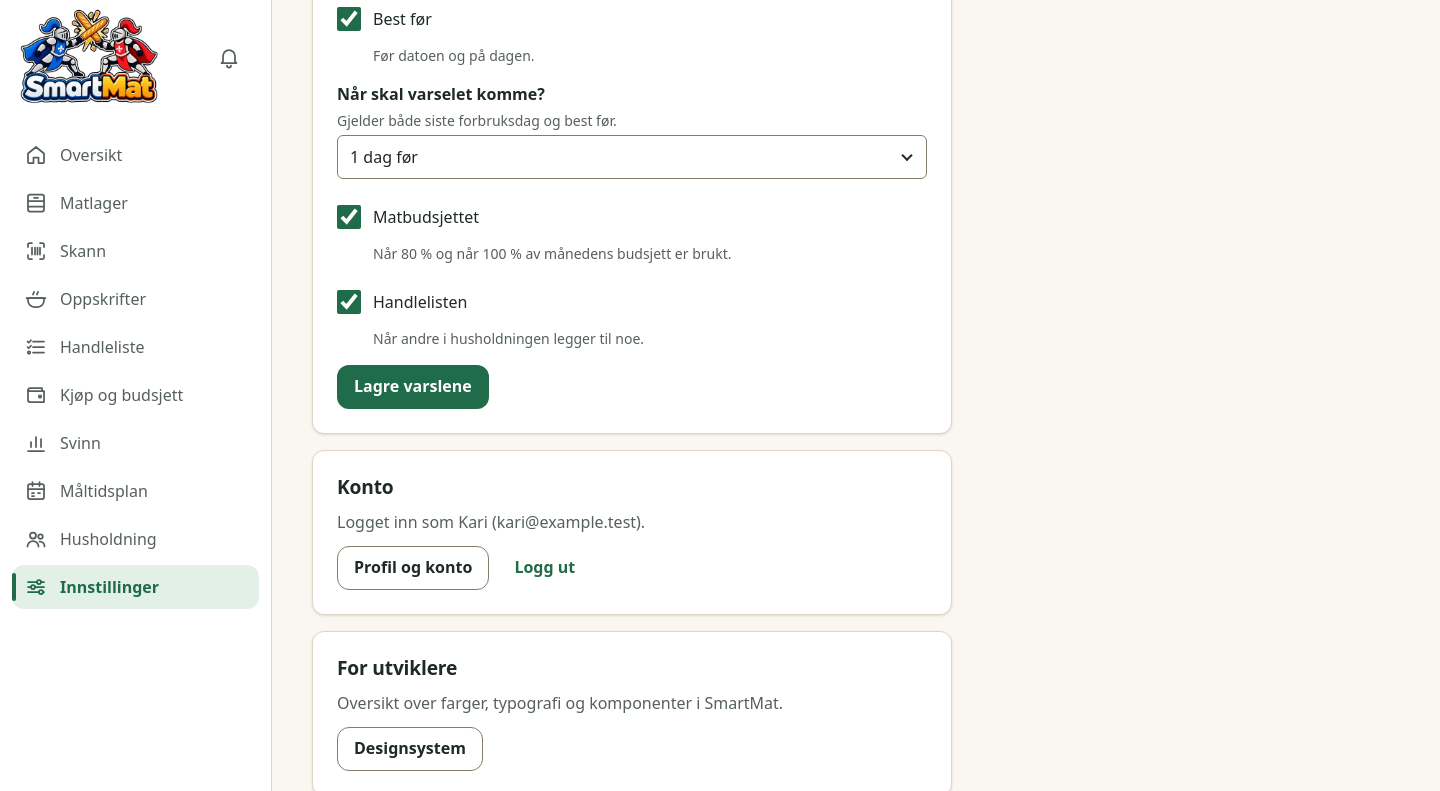
FR-NOTIF-005 notification settings › shows a server refusal as a message
The image size is (1440, 791).
(page scrolled)
Click the button "Lagre varslene" at (413, 387), box [337,365,489,409]
(page scrolled)
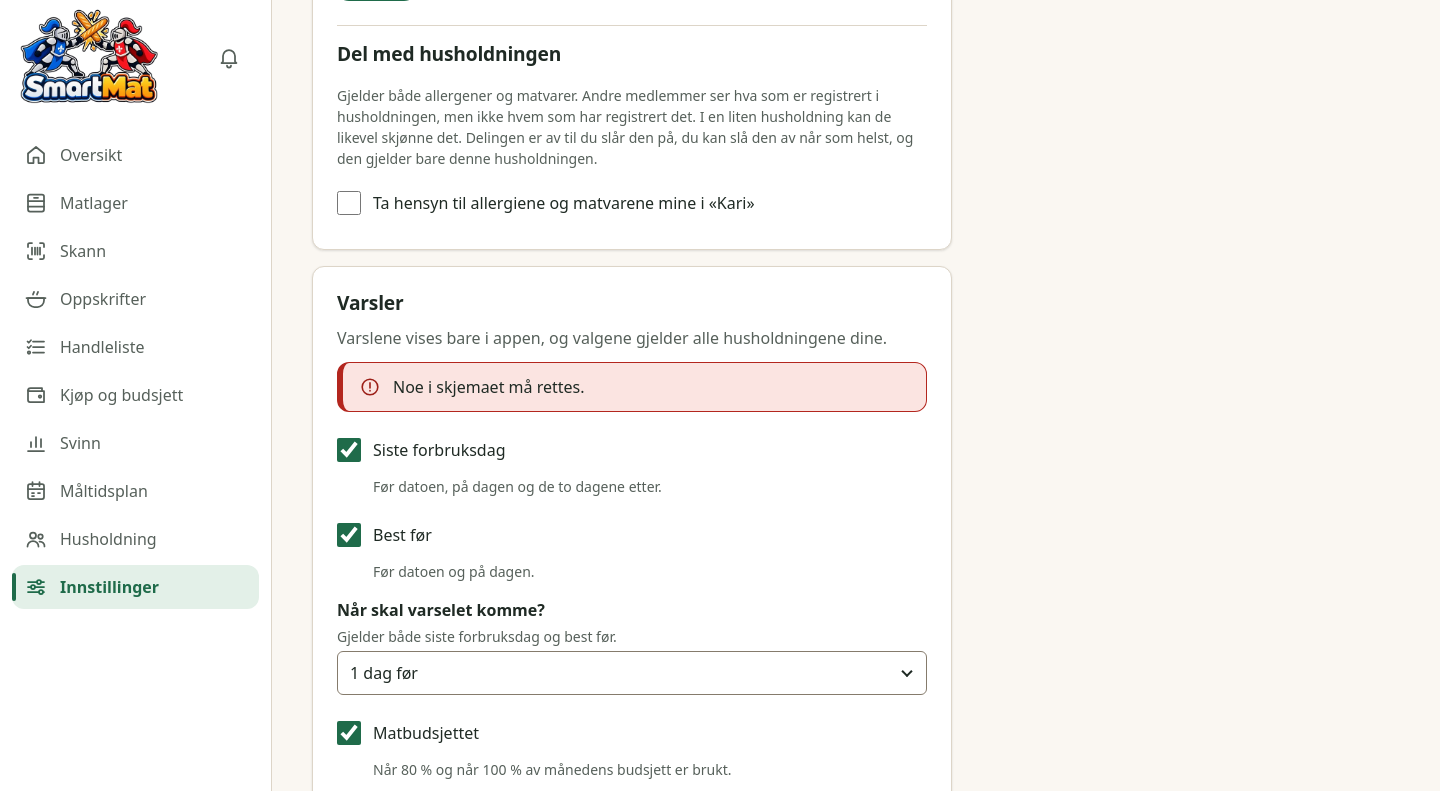
Check: the message "Noe i skjemaet må rettes." is shown, box [337,362,927,412]
